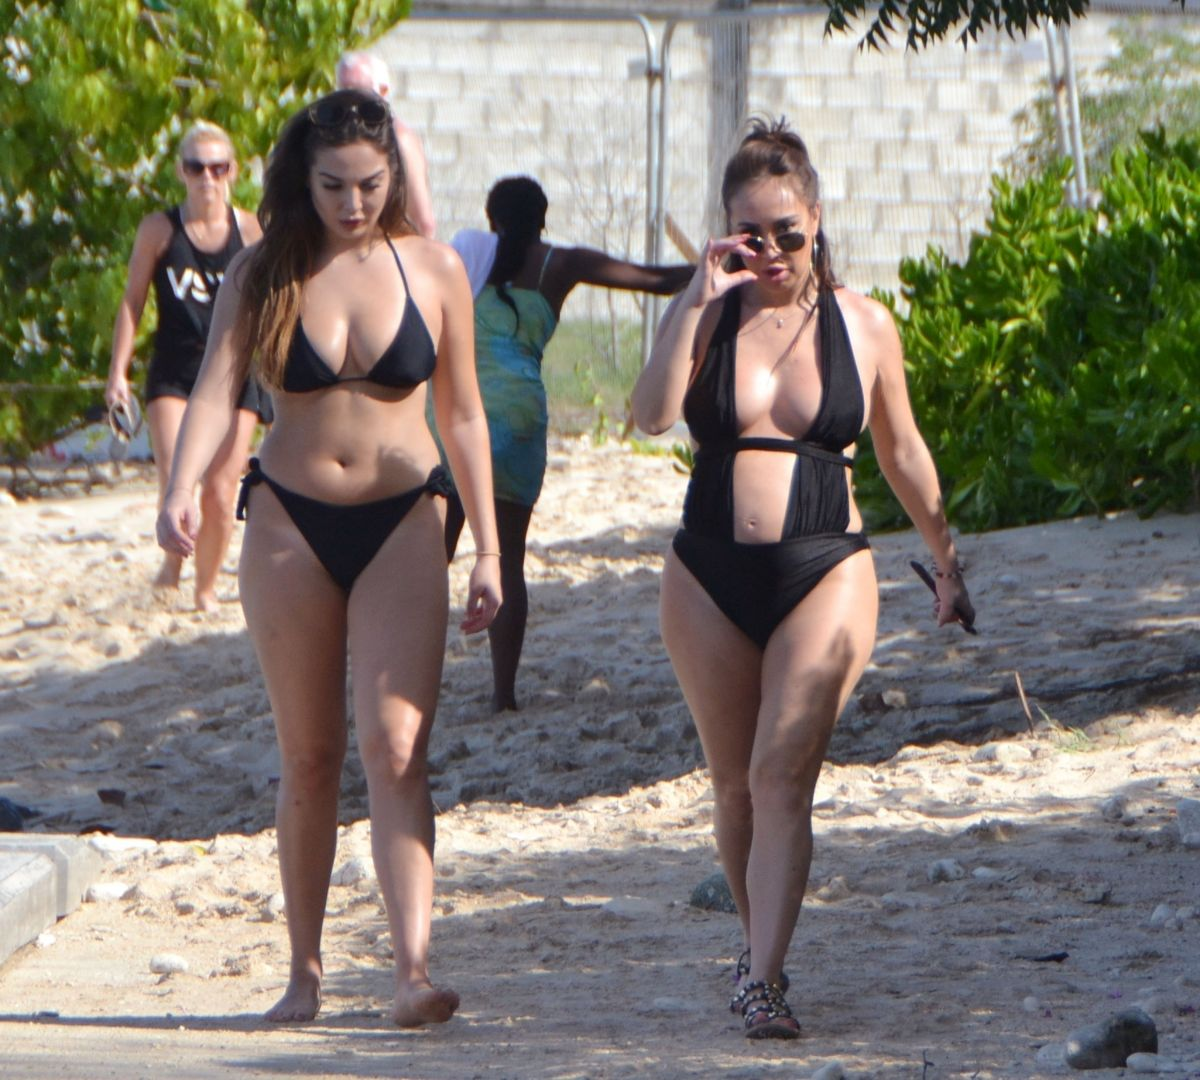Person: (155, 91, 503, 1031), (630, 109, 978, 1041), (445, 173, 696, 713), (100, 118, 263, 612)
